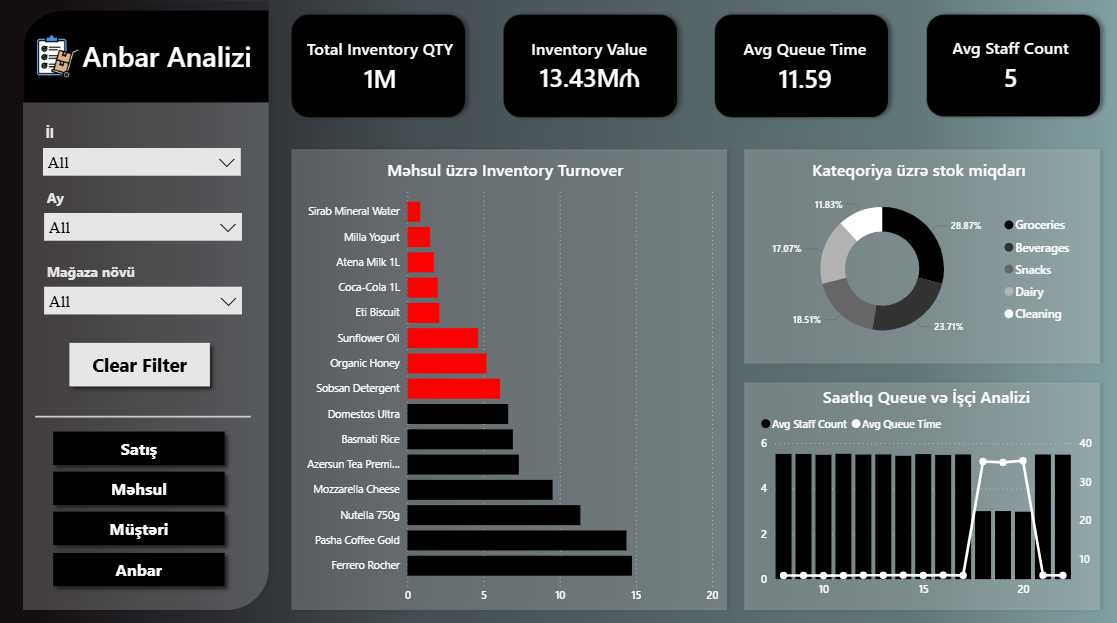

Layout of this report page (visuals, bound fields, positions):
{"tool":"powerbi","page":{"name":"Anbar","canvas":[1280,720],"ordinal":3},"visuals":[{"type":"textbox","box":[71.2,37.4,241.3,55.5],"z":0},{"type":"image","box":[39.8,30.2,54.3,68.8],"z":1000},{"type":"slicer","fields":{"Values":["DimDate.MonthName"]},"box":[40.9,210.5,245.6,86.4],"z":2000},{"type":"slicer","fields":{"Values":["DimDate.Year"]},"box":[40.2,135,245.6,91.9],"z":3000},{"type":"actionButton","box":[71.2,382.4,178.6,67.6],"z":4000},{"type":"shape","box":[41,440.4,246.1,72.4],"z":5000},{"type":"actionButton","box":[53.5,484.4,214.1,56.3],"z":6000},{"type":"actionButton","box":[53.5,529.7,214.1,56.3],"z":7000},{"type":"actionButton","box":[53.5,576.3,214.1,56.3],"z":8000},{"type":"actionButton","box":[53.5,623,214.1,56.3],"z":9000},{"type":"cardVisual","fields":{"Data":["Ölçülər.Total Inventory QTY1"]},"box":[320.9,10.9,228,127.9],"z":10000},{"type":"cardVisual","fields":{"Data":["Ölçülər.Inventory Value"]},"box":[568.2,7.2,212.3,135.1],"z":12000},{"type":"cardVisual","fields":{"Data":["Ölçülər.Avg Queue Time"]},"box":[816.8,25.3,208.7,98.9],"z":13000},{"type":"cardVisual","fields":{"Data":["Ölçülər.Avg Staff Count"]},"box":[1059.3,14.5,195.4,120.6],"z":14000},{"type":"donutChart","title":"Kateqoriya üzrə stok miqdarı","fields":{"Category":["DimProduct.Category"],"Y":["Ölçülər.Total Inventory QTY"]},"box":[866.2,181,371.6,226.8],"z":15000},{"type":"barChart","title":"Məhsul üzrə Inventory Turnover","fields":{"Category":["DimProduct.ProductName"],"Y":["Ölçülər.Inventory Turnover"]},"box":[329.4,181,497.1,517.6],"z":16000},{"type":"slicer","fields":{"Values":["DimStore.StoreType"]},"box":[41,294.4,246.1,77.2],"z":17000},{"type":"lineStackedColumnComboChart","title":"Saatlıq Queue və İşçi Analizi","fields":{"Category":["FactOperations.Hour"],"Y2":["Ölçülər.Avg Queue Time"],"Y":["Ölçülər.Avg Staff Count"]},"box":[866.2,440.4,388.5,252.1],"z":18000}]}

Visuals, with their boxes in screenshot pixels (x1, y1, x2, y2), scaled from the page's 1280x720 canvas onto the 1117x623 screenshot:
textbox: rect(62, 32, 273, 80)
image: rect(35, 26, 82, 86)
slicer - DimDate.MonthName: rect(36, 182, 250, 257)
slicer - DimDate.Year: rect(35, 117, 249, 196)
actionButton: rect(62, 331, 218, 389)
shape: rect(36, 381, 251, 444)
actionButton: rect(47, 419, 234, 468)
actionButton: rect(47, 458, 234, 507)
actionButton: rect(47, 499, 234, 547)
actionButton: rect(47, 539, 234, 588)
cardVisual - Ölçülər.Total Inventory QTY1: rect(280, 9, 479, 120)
cardVisual - Ölçülər.Inventory Value: rect(496, 6, 681, 123)
cardVisual - Ölçülər.Avg Queue Time: rect(713, 22, 895, 107)
cardVisual - Ölçülər.Avg Staff Count: rect(924, 13, 1095, 117)
"Kateqoriya üzrə stok miqdarı" donutChart: rect(756, 157, 1080, 353)
"Məhsul üzrə Inventory Turnover" barChart: rect(287, 157, 721, 604)
slicer - DimStore.StoreType: rect(36, 255, 251, 322)
"Saatlıq Queue və İşçi Analizi" lineStackedColumnComboChart: rect(756, 381, 1095, 599)
